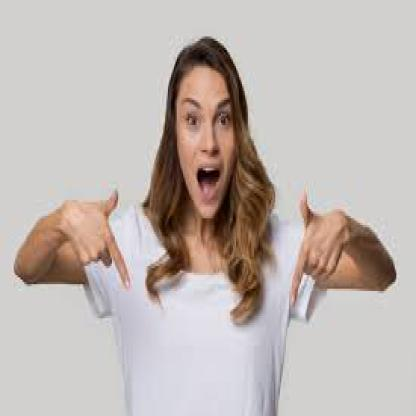Down: (69, 180, 140, 298), (287, 191, 344, 324)
